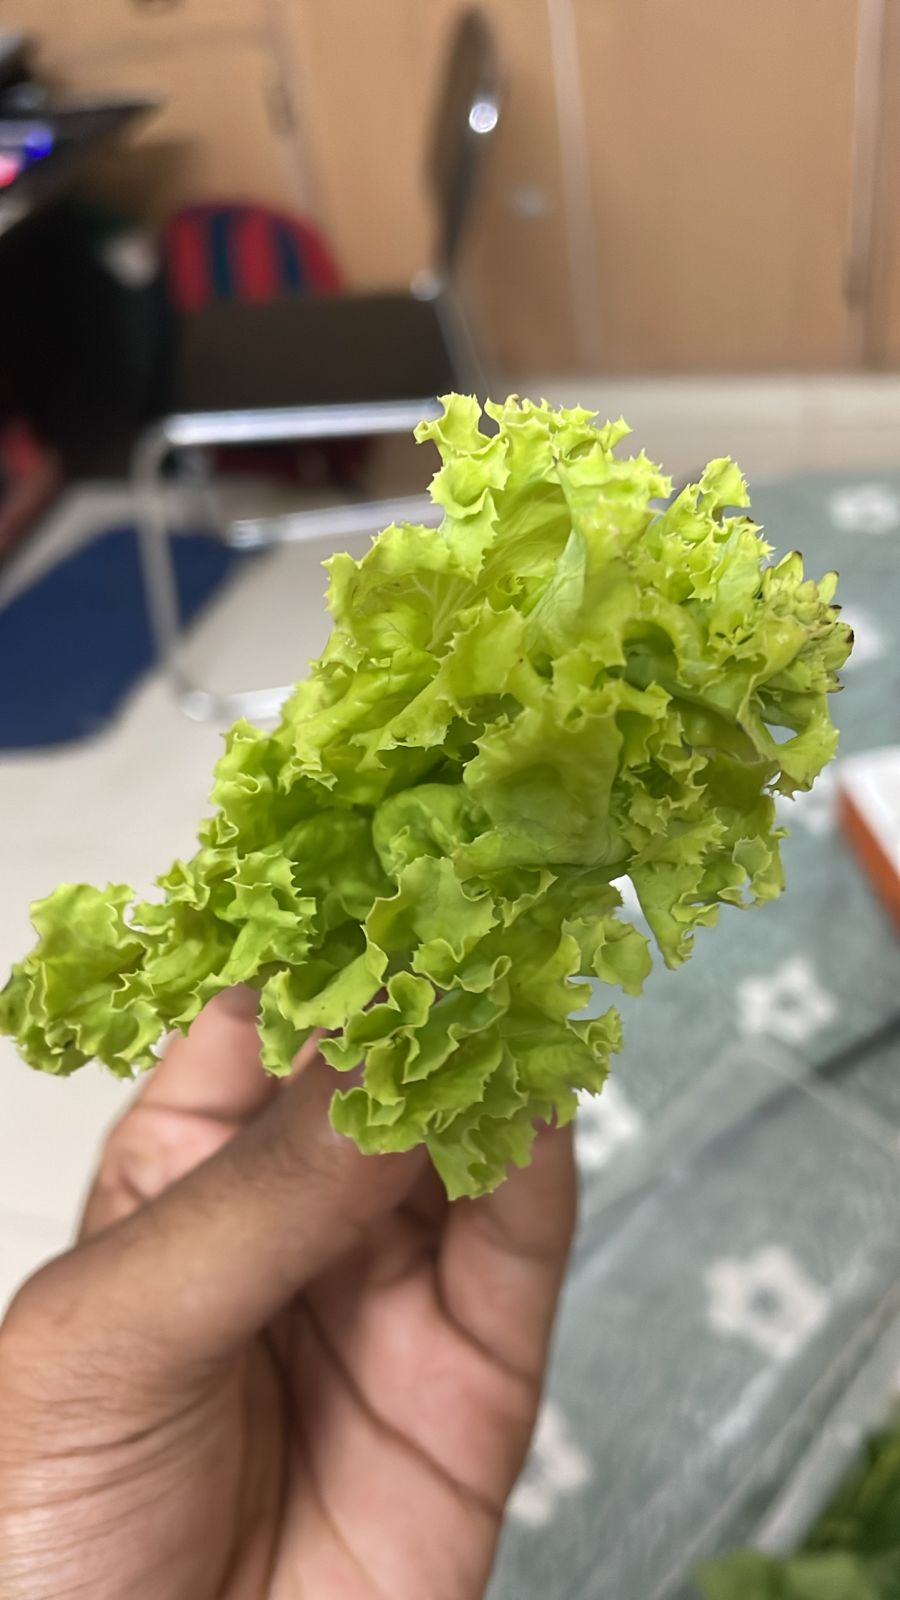wet: (73, 379, 749, 1084)
